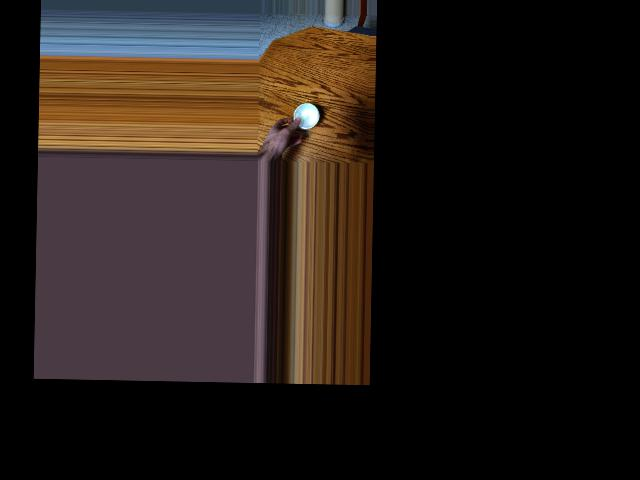cotage: (292, 105, 316, 130)
